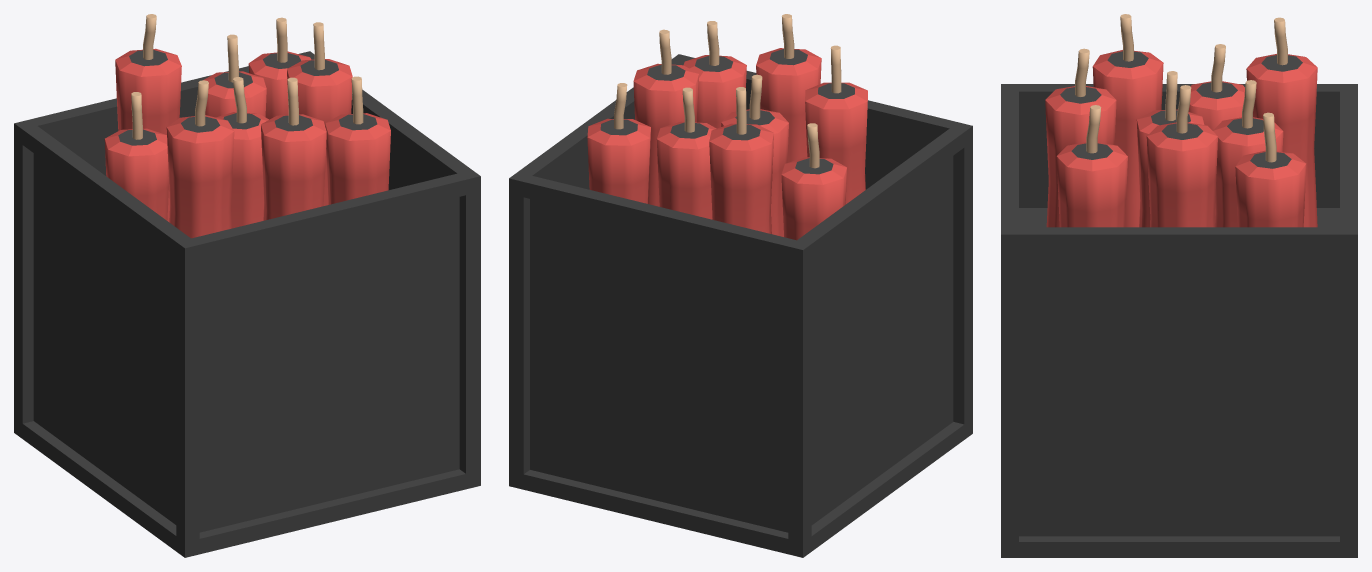
Rendered from TNT Crate Model.fbx.
3 views of the same model, side by side, from view 1: azimuth 30°, elevation 25°; view 2: azimuth 150°, elevation 25°; view 3: azimuth 270°, elevation 25° (orthographic). The views are drawn at different scales.
Visible parts, largest first — view 1: TNT Crate, TNT Pack; view 2: TNT Crate, TNT Pack; view 3: TNT Crate, TNT Pack.
Boxes of the visible parts, box(x1,y1,x2,y2) form: TNT Crate: box(14, 51, 480, 557); TNT Pack: box(104, 14, 390, 238); TNT Crate: box(509, 54, 972, 557); TNT Pack: box(587, 14, 867, 240); TNT Crate: box(1001, 84, 1357, 557); TNT Pack: box(1045, 14, 1317, 227).
Size of the model in its own units: 200 by 271 by 200.
